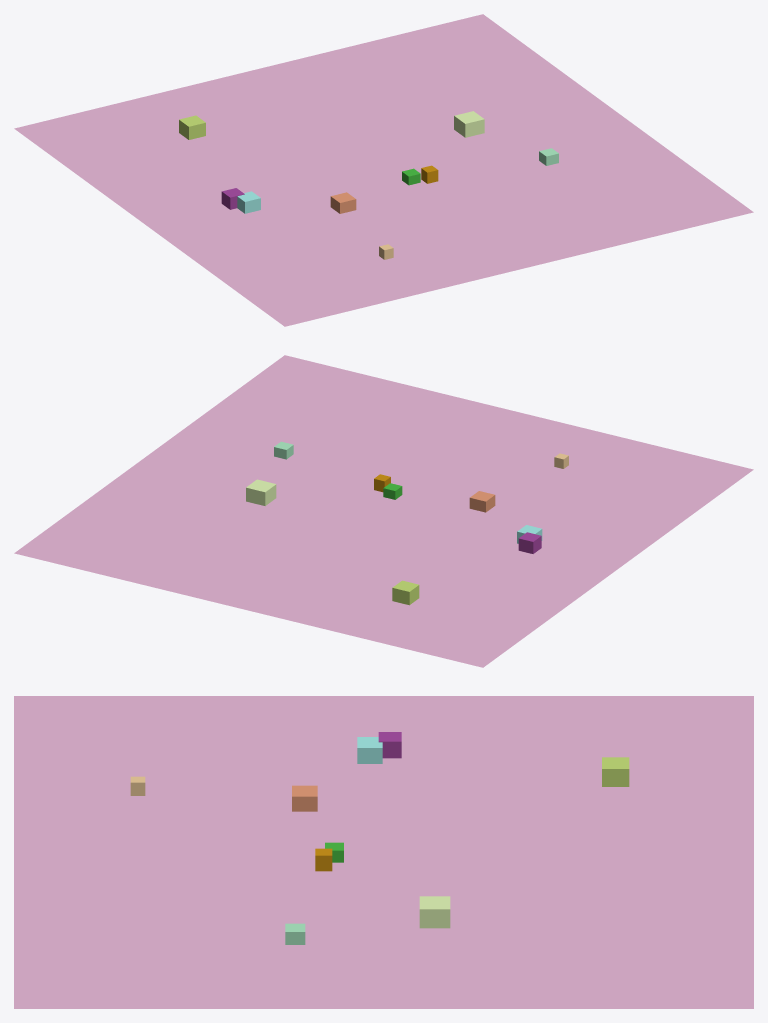
3 renders of one model, top to bottom at view 1: azimuth 30°, elevation 25°; view 2: azimuth 150°, elevation 25°; view 3: azimuth 270°, elevation 25°, orthographic. The views are drawn at different scales.
Parts seen in each view (by area): view 1: Chunk_-1_0; view 2: Chunk_-1_0; view 3: Chunk_-1_0.
Part boxes in pixels (x1,y1,x2,y2): Chunk_-1_0: (14,14,753,326); Chunk_-1_0: (14,355,753,667); Chunk_-1_0: (14,696,753,1008).
Bounding box in the file's own units: 1500 × 62 × 1500.
